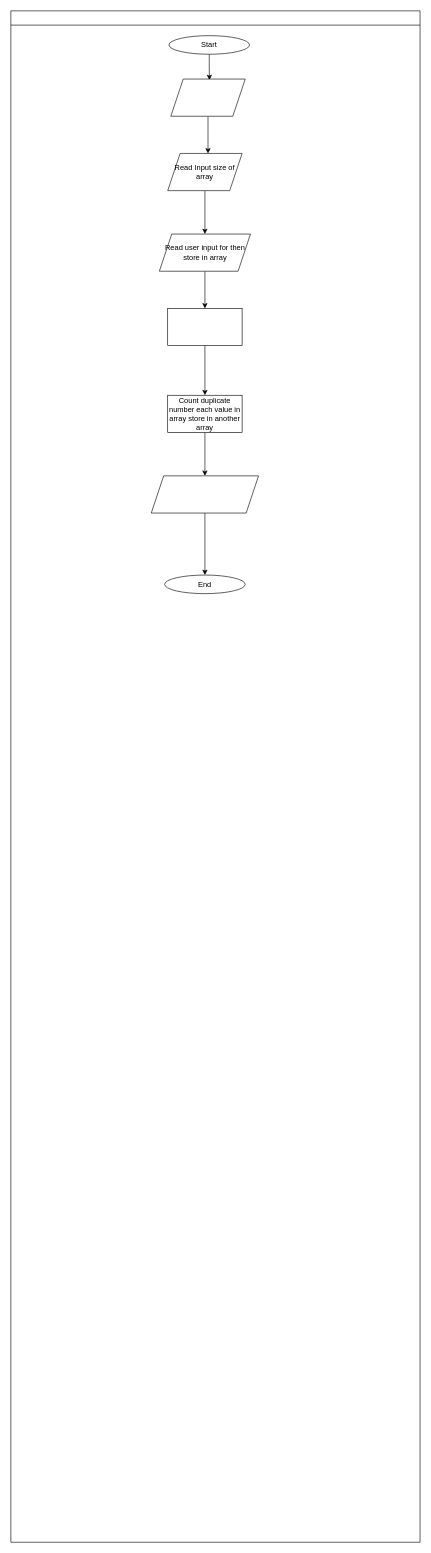
This 431x1553 diagram has some shape labels left out. The shapes that lost their labels are listed below. From the top down, each one's centre as x and y in pixels, then its label:
point 207,97: Display "Input N: "
point 204,327: Sort array using selection sort
point 205,494: Display only array not duplicate number
